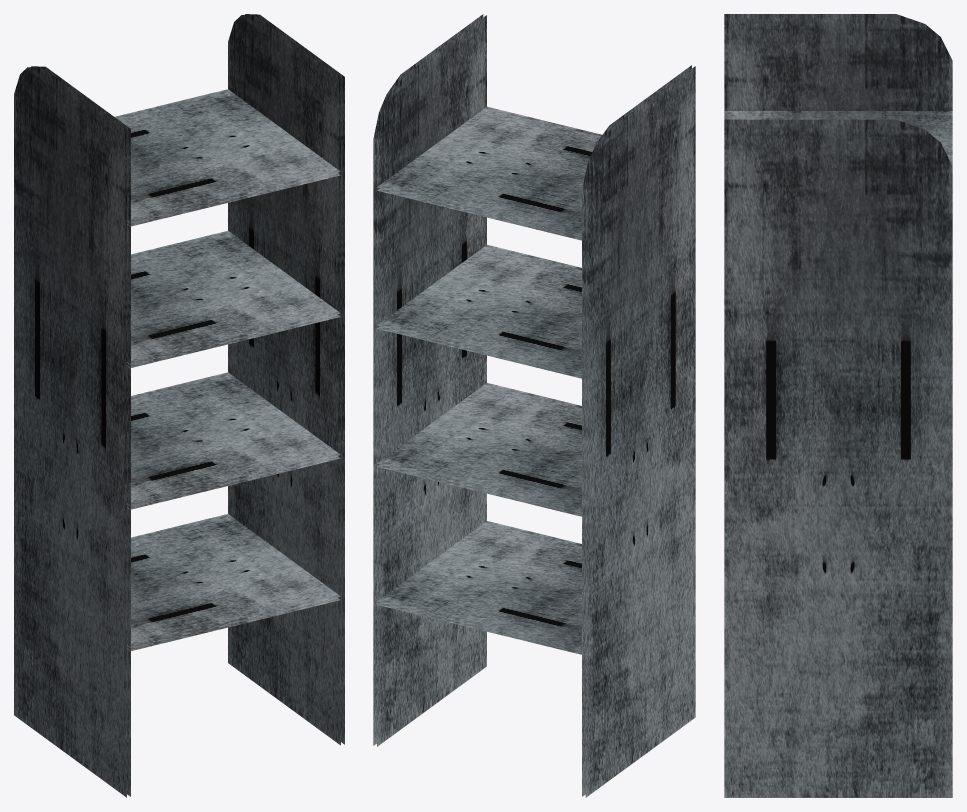
The model's file is store_59.obj.
3 renders of one model, left to right at view 1: azimuth 30°, elevation 25°; view 2: azimuth 150°, elevation 25°; view 3: azimuth 270°, elevation 25°, orthographic. The views are drawn at different scales.
Bounding box in the file's own units: 33.89 × 99.31 × 30.42.
